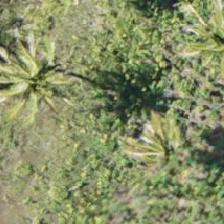coconut_tree: (122, 103, 212, 193), (0, 40, 79, 130), (170, 0, 223, 81)
